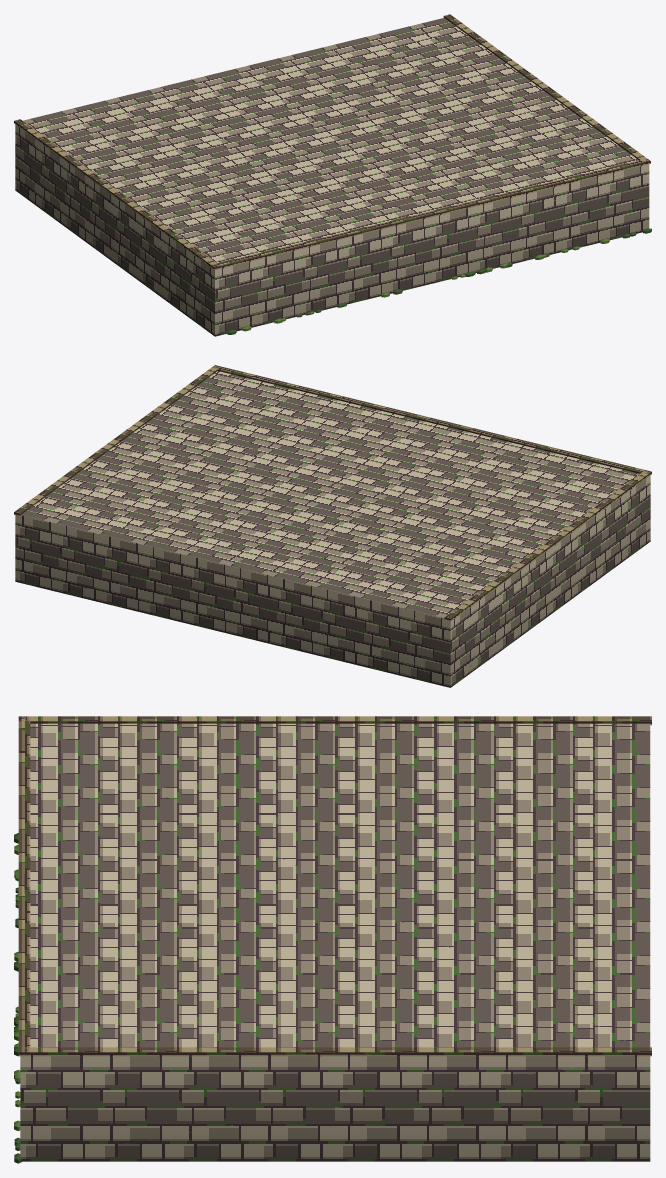
The model's file is scene_wall_n.glb.
3 views of the same model, one above another, from view 1: azimuth 30°, elevation 25°; view 2: azimuth 150°, elevation 25°; view 3: azimuth 270°, elevation 25° (orthographic). The views are drawn at different scales.
Parts seen in each view (by area): view 1: scene_wall_n; view 2: scene_wall_n; view 3: scene_wall_n.
Boxes of the visible parts, left/top/right/bottom form: scene_wall_n: left=14, top=14, right=651, bottom=336; scene_wall_n: left=14, top=365, right=651, bottom=687; scene_wall_n: left=14, top=716, right=651, bottom=1163.
Bounding box in the file's own units: 24.15 × 3.77 × 19.34.
Materials: 2 (1 with a texture image).
